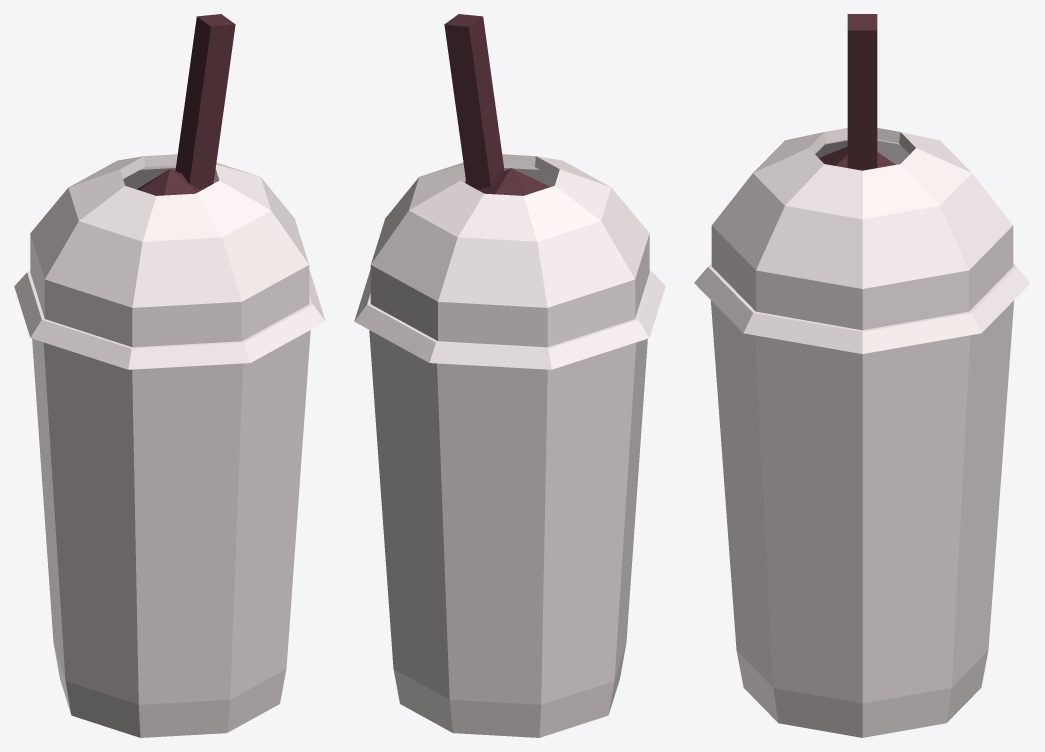
The model's file is cup-plastic-frappuccino-lid.fbx.
The picture shows the model from 3 angles, left to right: view 1: azimuth 30°, elevation 25°; view 2: azimuth 150°, elevation 25°; view 3: azimuth 270°, elevation 25°; orthographic projection. The views are drawn at different scales.
Visible parts, largest first — view 1: cup-plastic-frappuccino-lid; view 2: cup-plastic-frappuccino-lid; view 3: cup-plastic-frappuccino-lid.
Part boxes in pixels (box(x1,y1,x2,y2)): cup-plastic-frappuccino-lid: box(14, 14, 325, 737); cup-plastic-frappuccino-lid: box(354, 14, 665, 737); cup-plastic-frappuccino-lid: box(694, 14, 1030, 737).
Size of the model in its own units: 0.1094 by 0.2475 by 0.1094.
